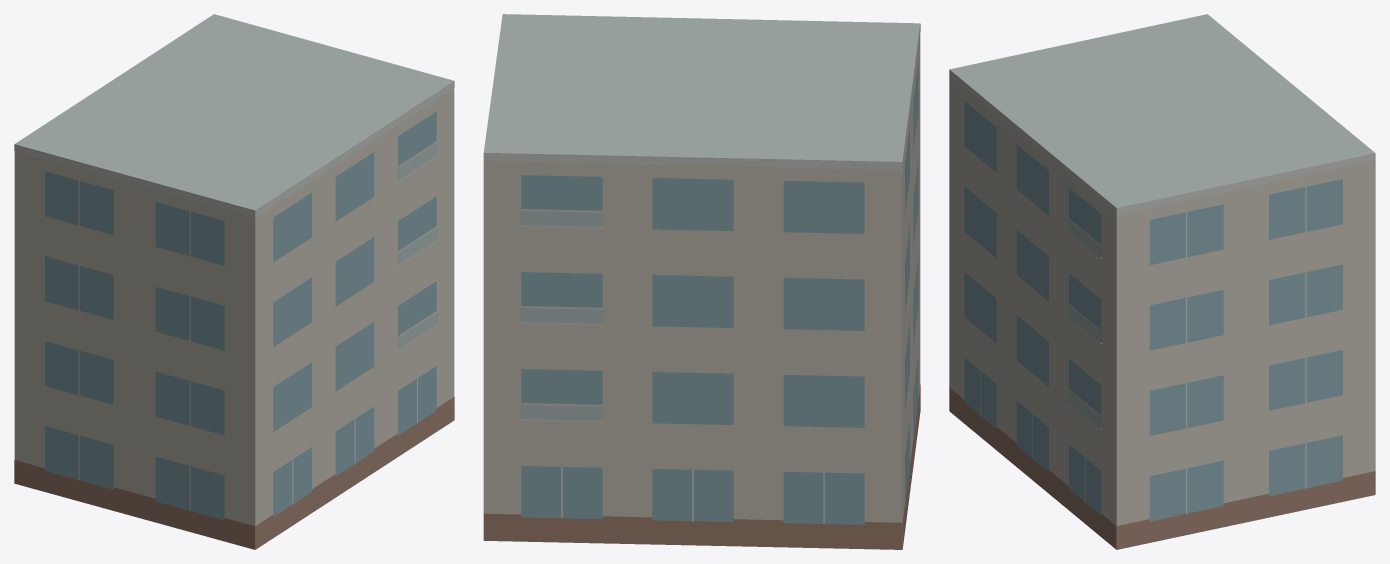
The model's file is survey-upis-32627503.glb.
3 views of the same model, side by side, from view 1: azimuth 30°, elevation 25°; view 2: azimuth 150°, elevation 25°; view 3: azimuth 270°, elevation 25° (orthographic). The views are drawn at different scales.
Parts seen in each view (by area): view 1: survey-upis-32627503.tmp; view 2: survey-upis-32627503.tmp; view 3: survey-upis-32627503.tmp.
Boxes of the visible parts, x1=… form: survey-upis-32627503.tmp: x1=14, y1=14, x2=454, y2=549; survey-upis-32627503.tmp: x1=483, y1=14, x2=920, y2=549; survey-upis-32627503.tmp: x1=949, y1=14, x2=1375, y2=549.
Bounding box in the file's own units: 14.26 × 11.7 × 13.23.
